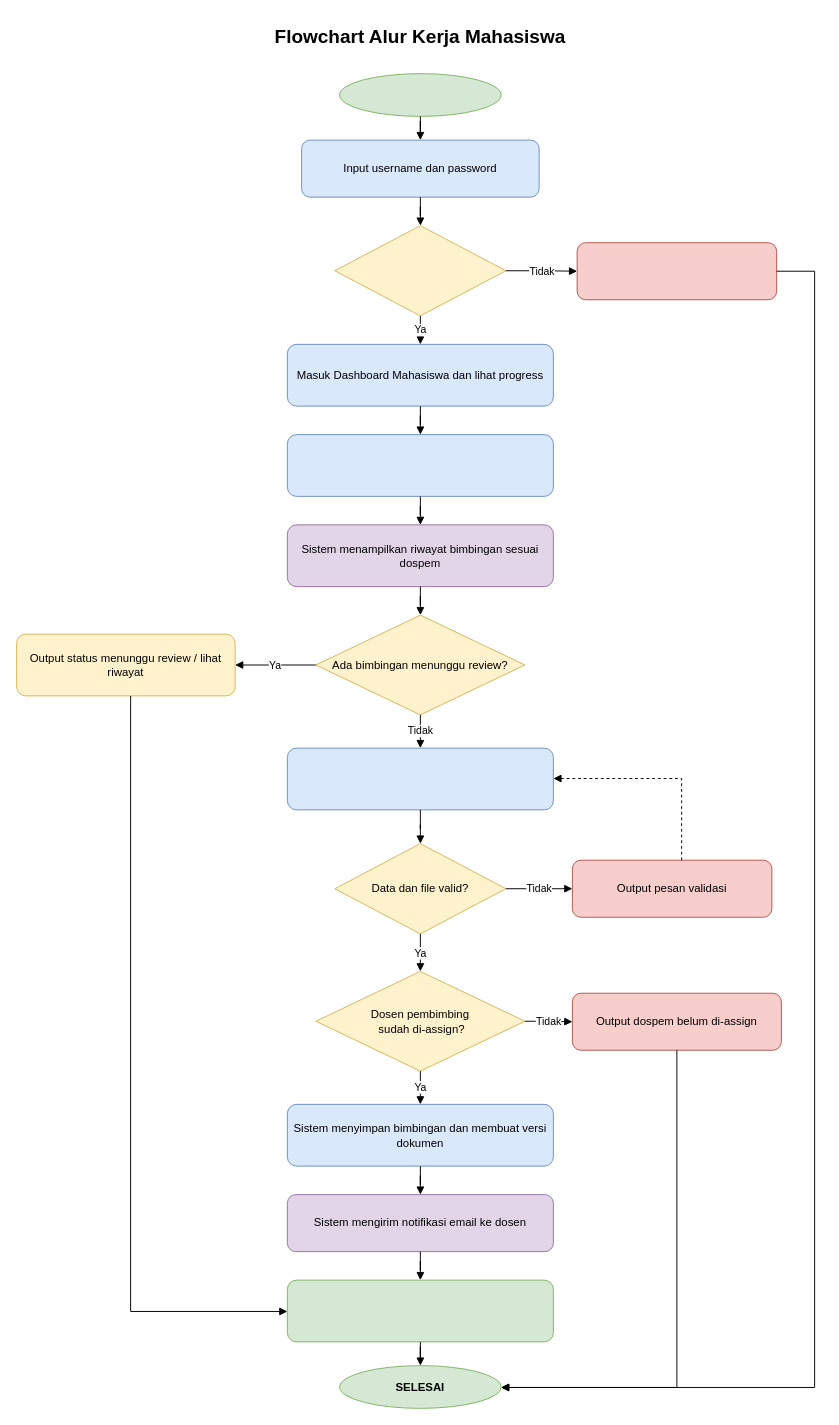
Image size: 839x1425. Some labels were removed from this diagram. Here are the shapes that lost their labels. From the top down, the centre of each, then its label:
At point 420,94: "MULAI".
At point 420,270: "Login valid?".
At point 676,271: "Output pesan login gagal".
At point 419,465: "Buka menu Bimbingan dan pilih Dospem 1 / Dospem 2".
At point 419,778: "Isi judul, catatan, dan upload dokumen PDF".
At point 419,1310: "Output riwayat, feedback, reply, dan jadwal sidang".
